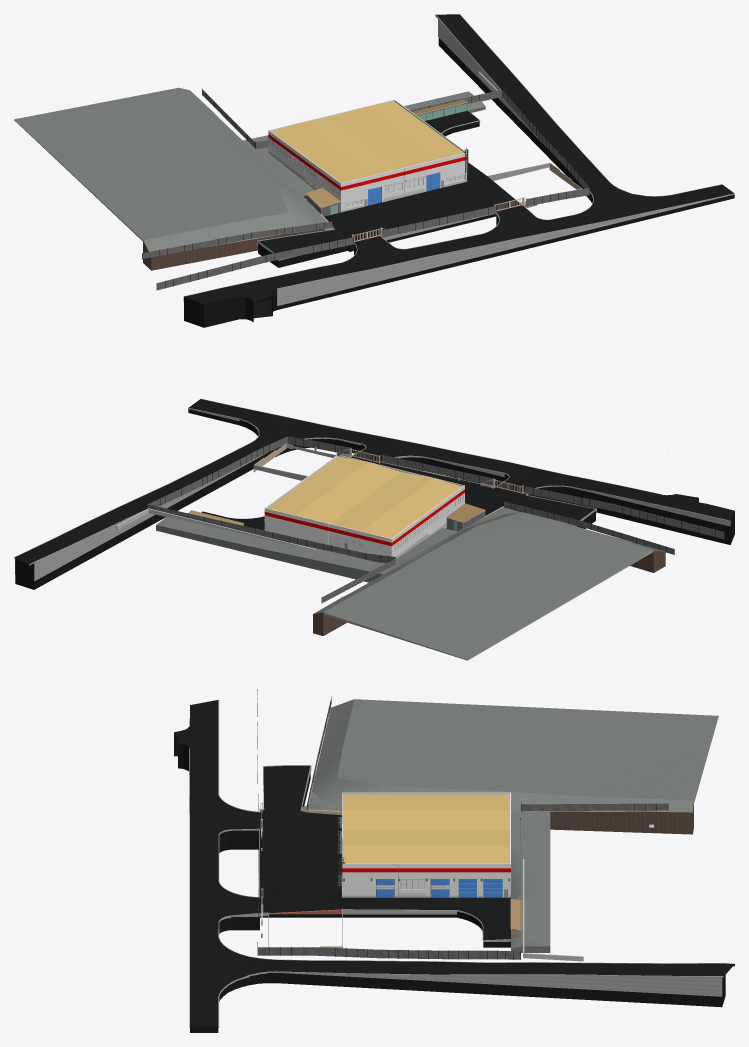
File: průmyslová hala.fbx
3 renders of one model, top to bottom at view 1: azimuth 30°, elevation 25°; view 2: azimuth 150°, elevation 25°; view 3: azimuth 270°, elevation 25°, orthographic. The views are drawn at different scales.
Visible parts, largest first — view 1: Beton - 20, Chodník - asfalt tmavý, Barva 05 - zlatá okrová, Beton - 04, Kov - pletivo, Barva 01 - bílá lesklá, Zemina - hnědá, Barva 13 - rumělková, Sklo - čiré rychlé, Dřevo - OSB, Barva 26 - černá; view 2: Beton - 20, Chodník - asfalt tmavý, Barva 05 - zlatá okrová, Kov - pletivo, Beton - 04, Barva 01 - bílá lesklá, Zemina - hnědá, Barva 23 - světle šedá, Barva 13 - rumělková, Dřevo - OSB, Barva 26 - černá; view 3: Beton - 20, Chodník - asfalt tmavý, Barva 05 - zlatá okrová, Beton - 04, Barva 01 - bílá lesklá, Kov - pletivo, Zemina - hnědá, Barva 18 - královská modrá, Barva 23 - světle šedá, Barva 13 - rumělková.
Boxes of the visible parts, x1,y1,x2,y2 form: Beton - 20: [14, 87, 485, 251]; Chodník - asfalt tmavý: [184, 14, 734, 327]; Barva 05 - zlatá okrová: [271, 101, 463, 182]; Beton - 04: [14, 14, 734, 306]; Kov - pletivo: [142, 89, 589, 290]; Barva 01 - bílá lesklá: [268, 99, 466, 210]; Zemina - hnědá: [143, 195, 326, 270]; Barva 13 - rumělková: [268, 134, 466, 190]; Sklo - čiré rychlé: [269, 140, 463, 207]; Dřevo - OSB: [306, 99, 466, 207]; Barva 26 - černá: [142, 89, 589, 290]; Beton - 20: [156, 507, 664, 659]; Chodník - asfalt tmavý: [15, 399, 734, 589]; Barva 05 - zlatá okrová: [267, 456, 461, 538]; Kov - pletivo: [147, 436, 724, 602]; Beton - 04: [14, 398, 730, 660]; Barva 01 - bílá lesklá: [264, 455, 464, 556]; Zemina - hnědá: [313, 550, 665, 635]; Barva 23 - světle šedá: [116, 450, 667, 558]; Barva 13 - rumělková: [264, 489, 464, 546]; Dřevo - OSB: [188, 503, 485, 525]; Barva 26 - černá: [153, 437, 715, 603]; Beton - 20: [301, 699, 718, 952]; Chodník - asfalt tmavý: [174, 700, 734, 1032]; Barva 05 - zlatá okrová: [343, 794, 509, 865]; Beton - 04: [189, 699, 734, 1027]; Barva 01 - bílá lesklá: [342, 792, 510, 897]; Kov - pletivo: [257, 692, 667, 959]; Zemina - hnědá: [340, 756, 693, 834]; Barva 18 - královská modrá: [376, 879, 502, 897]; Barva 23 - světle šedá: [342, 824, 653, 961]; Barva 13 - rumělková: [342, 868, 510, 872].
Bounding box in the file's own units: 16041 × 1430 × 15713.
Materials: 38 (23 with a texture image).
